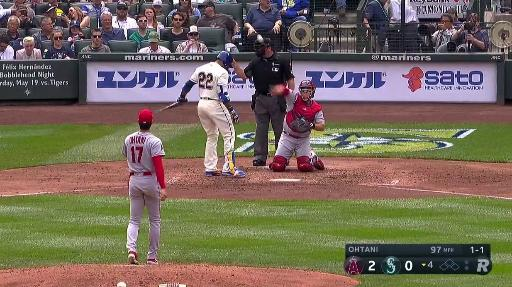pitcher: (122, 109, 169, 267)
